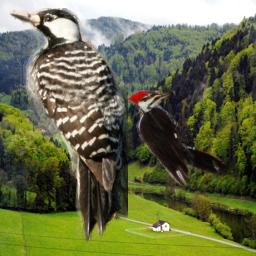Woodpecker: (9, 8, 128, 244), (125, 90, 240, 189)
